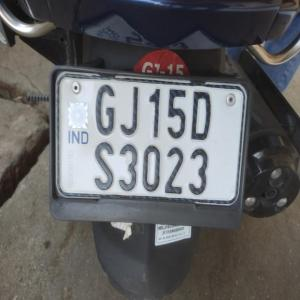Plate: (58, 79, 229, 206)
